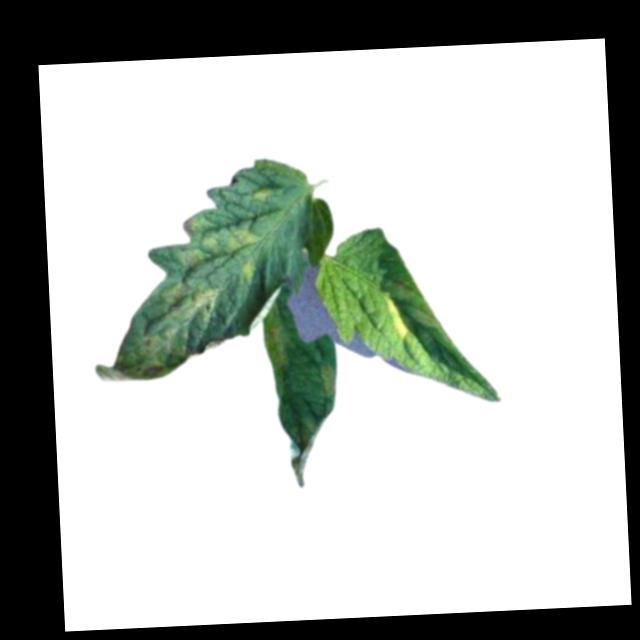Leaf_Mold: (92, 280, 224, 386), (170, 209, 259, 268), (382, 294, 409, 342), (234, 258, 258, 290), (318, 364, 339, 394), (250, 187, 272, 207)
